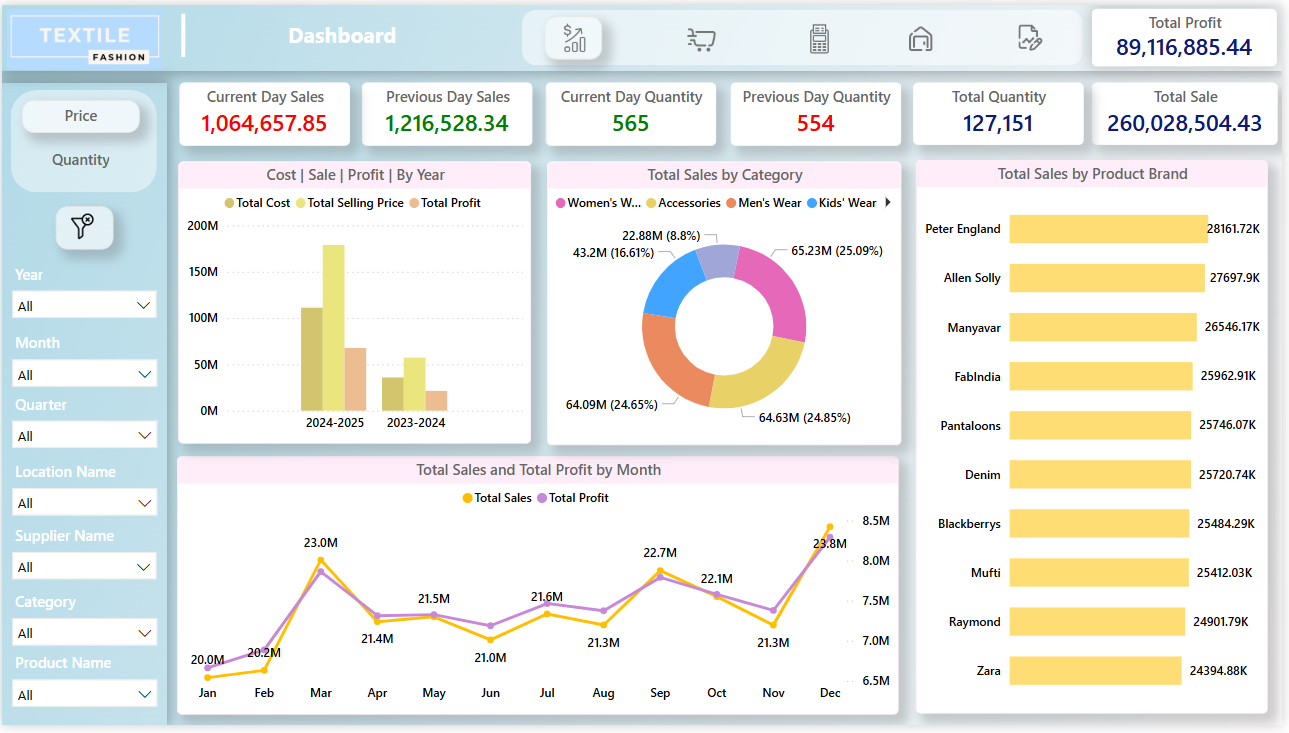

Layout of this report page (visuals, bound fields, positions):
{"tool":"powerbi","page":{"name":"Dashboard","canvas":[1280,720],"ordinal":1},"visuals":[{"type":"shape","box":[0,0,1280,66.2],"z":0},{"type":"lineChart","title":"Total Sales and Total Profit by Month","fields":{"Y":["Sum(Garments Data.Total Amount)"],"Category":["Fiscal Year.Month"],"Y2":["Sum(Garments Data.Total Profit)"]},"box":[174.6,450.7,721.7,258.1],"z":0,"group":"g1"},{"type":"shape","box":[520,4.8,561,55.5],"z":1000},{"type":"lineClusteredColumnComboChart","title":"Cost | Sale | Profit | By Year","fields":{"Category":["Fiscal Year.Year"],"Y":["Sum(Garments Data.Total Cost)","Sum(Garments Data.Total Selling Price)","Sum(Garments Data.Total Profit)"]},"box":[175.9,156.7,353.1,282.5],"z":1000,"group":"g1"},{"type":"shape","box":[542.9,11.8,57.8,43],"z":2000},{"type":"barChart","title":"Total Sales by Product Brand","fields":{"Category":["Garments Data.Product Brand"],"Y":["Sum(Garments Data.Total Amount)"]},"box":[912.9,155,352.3,553.8],"z":2000,"group":"g1"},{"type":"shape","box":[0,77.5,165,642.5],"z":3000},{"type":"donutChart","title":"Total Sales by Category","fields":{"Category":["Garments Data.Category"],"Y":["Sum(Garments Data.Total Amount)"]},"box":[544.4,156.7,354.4,283.8],"z":3000,"group":"g1"},{"type":"card","title":"Current Day Quantity","fields":{"Values":["DAX.Current Day Quantity"]},"box":[543.8,77.5,170,63],"z":4000},{"type":"card","title":"Previous Day Sales","fields":{"Values":["DAX.Previous Day Sales"]},"box":[360,77.5,170,63],"z":5000},{"type":"card","title":"Current Day Sales","fields":{"Values":["DAX.Current Day Sales"]},"box":[177.5,77.5,170,63],"z":6000},{"type":"card","title":"Previous Day Quantity","fields":{"Values":["DAX.Previous Day Quantity"]},"box":[728.8,77.5,170,63],"z":7000},{"type":"card","title":"Total Sale","fields":{"Values":["Sum(Garments Data.Total Amount)"]},"box":[1090.6,77.2,185.8,62.7],"z":8000},{"type":"card","title":"Total Quantity","fields":{"Values":["Sum(Garments Data.Quantity)"]},"box":[911.2,77.5,170,62.5],"z":9000},{"type":"card","title":"Total Profit","fields":{"Values":["Sum(Garments Data.Total Profit)"]},"box":[1090.6,3.6,184.6,57.9],"z":10000},{"type":"actionButton","box":[174.3,11.4,332.9,34.3],"z":11000},{"type":"slicer","fields":{"Values":["Fiscal Year.Year"]},"box":[0,253.1,164.1,65.1],"z":12000},{"type":"slicer","fields":{"Values":["Fiscal Year.Month"]},"box":[0,321.9,165.3,65.1],"z":13000},{"type":"slicer","fields":{"Values":["Fiscal Year.Quarter"]},"box":[0,383.4,165.3,65.1],"z":14000},{"type":"slicer","fields":{"Values":["Garments Data.Location Name"]},"box":[0,451,165.3,65.1],"z":15000},{"type":"slicer","fields":{"Values":["Garments Data.Category"]},"box":[0,581.3,165.3,65.1],"z":16000},{"type":"slicer","fields":{"Values":["Garments Data.Product Name"]},"box":[0,642.8,165.3,65.1],"z":17000},{"type":"slicer","fields":{"Values":["Garments Data.Supplier Name"]},"box":[0,514.9,164.1,65.1],"z":18000},{"type":"image","box":[797.3,13.6,40,40],"z":19000},{"type":"image","box":[552.4,13.2,40.3,40.3],"z":20000},{"type":"image","box":[679.8,14.8,40,40],"z":21000},{"type":"image","box":[898.2,13.1,39.8,39.8],"z":22000},{"type":"shape","box":[53.1,201.7,57.8,43],"z":23000},{"type":"shape","box":[8.8,85,146.2,102.5],"z":24000},{"type":"shape","box":[20,95.2,117.5,32.5],"z":25000},{"type":"actionButton","box":[31.2,96.5,95,32.5],"z":27000},{"type":"actionButton","box":[31.2,140,95,32.5],"z":28000},{"type":"group","id":"g1","title":"Amount","box":[174.6,155,1090.6,553.9],"z":29000},{"type":"image","box":[1006.2,12.5,40,38.8],"z":31000},{"type":"shape","box":[167.7,8.4,27.7,43.4],"z":32000},{"type":"image","box":[58.6,204.3,42.9,35.7],"z":33000},{"type":"image","box":[0,0,164.3,70],"z":34000}]}

Visuals, with their boxes in screenshot pixels (x1, y1, x2, y2), scaled from the page's 1280x720 canvas onto the 1289x733 screenshot:
shape: <region>0, 0, 1288, 67</region>
"Total Sales and Total Profit by Month" lineChart: <region>176, 459, 903, 722</region>
shape: <region>524, 5, 1089, 61</region>
"Cost | Sale | Profit | By Year" lineClusteredColumnComboChart: <region>177, 160, 533, 447</region>
shape: <region>547, 12, 605, 56</region>
"Total Sales by Product Brand" barChart: <region>919, 158, 1274, 722</region>
shape: <region>0, 79, 166, 732</region>
"Total Sales by Category" donutChart: <region>548, 160, 905, 448</region>
"Current Day Quantity" card: <region>548, 79, 719, 143</region>
"Previous Day Sales" card: <region>363, 79, 534, 143</region>
"Current Day Sales" card: <region>179, 79, 350, 143</region>
"Previous Day Quantity" card: <region>734, 79, 905, 143</region>
"Total Sale" card: <region>1098, 79, 1285, 142</region>
"Total Quantity" card: <region>918, 79, 1089, 143</region>
"Total Profit" card: <region>1098, 4, 1284, 63</region>
actionButton: <region>176, 12, 511, 47</region>
slicer - Fiscal Year.Year: <region>0, 258, 165, 324</region>
slicer - Fiscal Year.Month: <region>0, 328, 166, 394</region>
slicer - Fiscal Year.Quarter: <region>0, 390, 166, 457</region>
slicer - Garments Data.Location Name: <region>0, 459, 166, 525</region>
slicer - Garments Data.Category: <region>0, 592, 166, 658</region>
slicer - Garments Data.Product Name: <region>0, 654, 166, 721</region>
slicer - Garments Data.Supplier Name: <region>0, 524, 165, 590</region>
image: <region>803, 14, 843, 55</region>
image: <region>556, 13, 597, 54</region>
image: <region>685, 15, 725, 56</region>
image: <region>905, 13, 945, 54</region>
shape: <region>53, 205, 112, 249</region>
shape: <region>9, 87, 156, 191</region>
shape: <region>20, 97, 138, 130</region>
actionButton: <region>31, 98, 127, 131</region>
actionButton: <region>31, 143, 127, 176</region>
"Amount" group: <region>176, 158, 1274, 722</region>
image: <region>1013, 13, 1054, 52</region>
shape: <region>169, 9, 197, 53</region>
image: <region>59, 208, 102, 244</region>
image: <region>0, 0, 165, 71</region>
